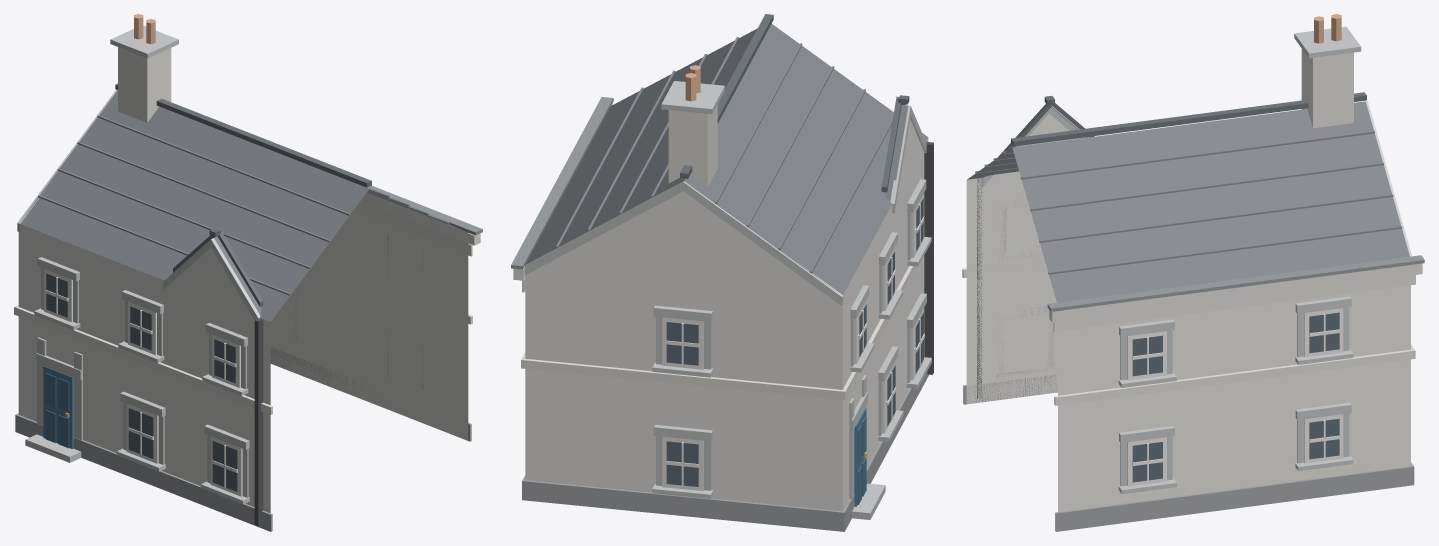
The picture shows the model from 3 angles, left to right: view 1: azimuth 30°, elevation 25°; view 2: azimuth 150°, elevation 25°; view 3: azimuth 270°, elevation 25°; orthographic projection. The views are drawn at different scales.
Visible parts, largest first — view 1: harl, slate, stone_band, plinth, frame, string, slate_lt, chim_render, slate_dk, pipe, door_blue_p, door_blue (+6 smaller); view 2: harl, slate, stone_band, plinth, frame, slate_lt, string, chim_render, lead, slate_dk, pipe, window_glass_010 (+3 smaller); view 3: harl, slate, string, stone_band, plinth, frame, slate_lt, chim_render, slate_dk, lead, window_glass_008, window_glass_009 (+4 smaller).
Part boxes in pixels (x1,y1,x2,y2): harl: (18,193,468,513); slate: (20,90,464,321); stone_band: (17,25,423,504); plinth: (15,347,471,531); frame: (44,269,418,496); string: (14,193,480,414); slate_lt: (38,115,449,295); chim_render: (118,47,171,122); slate_dk: (115,83,371,306); pipe: (254,318,263,525); door_blue_p: (45,373,69,448); door_blue: (43,366,73,448); harl: (525,119,928,511); slate: (526,24,927,294); stone_band: (525,81,931,519); plinth: (522,371,928,531); frame: (662,194,924,491); slate_lt: (556,37,893,273); string: (513,103,917,400); chim_render: (668,105,717,186); lead: (511,97,613,269); slate_dk: (680,14,909,192); pipe: (924,142,933,374); window_glass_010: (666,441,698,486); harl: (966,113,1410,511); slate: (967,101,1409,302); string: (962,262,1422,405); stone_band: (981,26,1411,494); plinth: (963,374,1414,531); frame: (1004,207,1343,486); slate_lt: (975,131,1402,274); chim_render: (1301,49,1353,128); slate_dk: (997,92,1366,157); lead: (1047,255,1424,311); window_glass_008: (1309,418,1339,459); window_glass_009: (1309,312,1339,353).
Size of the model in its own units: 9.62 by 10.01 by 10.27.
